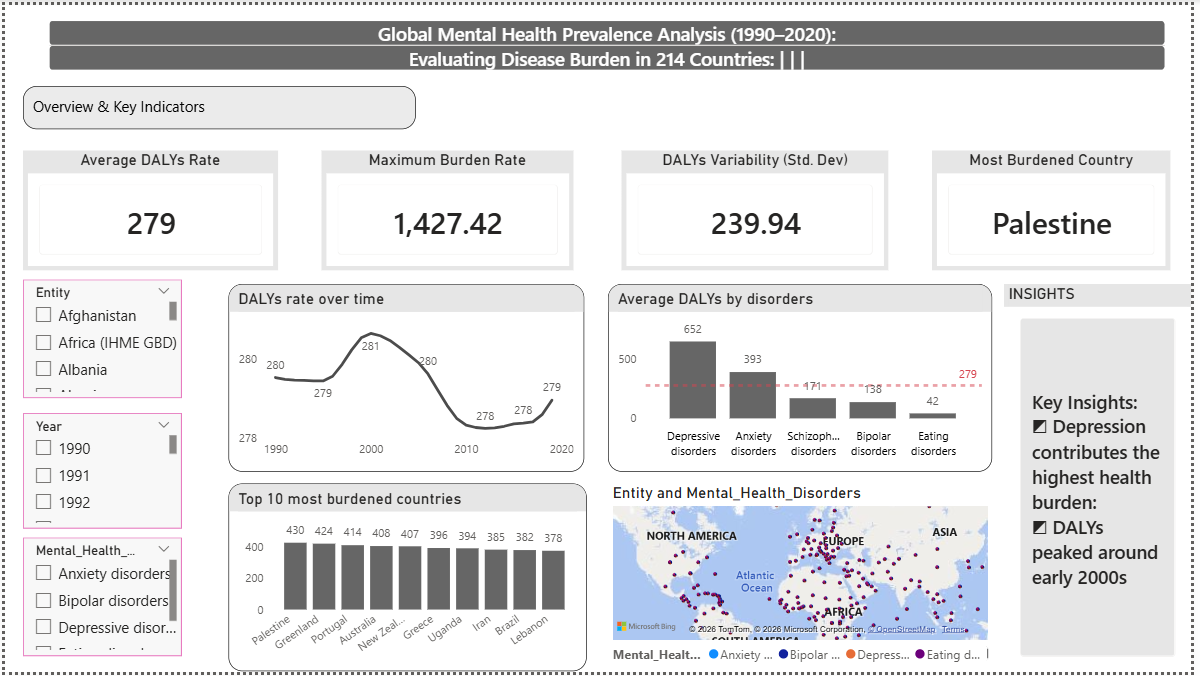

Layout of this report page (visuals, bound fields, positions):
{"tool":"powerbi","page":{"name":"DALYs Measures","canvas":[1280,720],"ordinal":1},"visuals":[{"type":"cardVisual","title":"Most Burdened Country","fields":{"Data":["Measures Table.Top Country DALYs"]},"box":[1000.7,157.1,257.5,129.5],"z":0},{"type":"cardVisual","title":"Average DALYs Rate","fields":{"Data":["Measures Table.m_Average DALYS rate"]},"box":[19.4,157.1,275.3,129.5],"z":1000},{"type":"lineChart","title":"DALYs rate over time","fields":{"Y":["Measures Table.m_Average DALYS rate"],"Category":["DIM_YEAR.Year"]},"box":[241.3,301.2,383.8,202.4],"z":2000},{"type":"clusteredColumnChart","title":"Average DALYs by disorders","fields":{"Y":["Measures Table.m_Average DALYS rate"],"Category":["DIM_DISORDERS.Mental_Health_Disorders"]},"box":[650.9,301.2,414.5,202.4],"z":3000},{"type":"cardVisual","title":"Maximum Burden Rate","fields":{"Data":["Measures Table.m_Max_DALYs"]},"box":[341.7,157.1,272,129.5],"z":4000},{"type":"cardVisual","title":"DALYs Variability (Std. Dev)","fields":{"Data":["Measures Table.m_Standard Deviation DALY"]},"box":[665.5,157.1,288.2,129.5],"z":5000},{"type":"clusteredColumnChart","title":"Top 10 most burdened countries","fields":{"Y":["Measures Table.m_Average DALYS rate"],"Category":["DIM_COUNTRIES.Entity"]},"box":[241.3,516.5,387,202.4],"z":6000},{"type":"slicer","fields":{"Values":["DIM_COUNTRIES.Entity"]},"box":[19.4,296.3,171.6,127.9],"z":7000},{"type":"slicer","fields":{"Values":["DIM_YEAR.Year"]},"box":[19.4,440.4,171.6,124.7],"z":8000},{"type":"slicer","fields":{"Values":["DIM_DISORDERS.Mental_Health_Disorders"]},"box":[19.4,574.8,171.6,127.9],"z":9000},{"type":"cardVisual","fields":{"Data":["Measures Table.dt_Main Title","Measures Table.dt_sMain DALYS"]},"box":[30.8,0,1238.7,87.4],"z":10000},{"type":"textbox","box":[19.4,87.4,424.2,47],"z":11000},{"type":"cardVisual","title":"INSIGHTS","fields":{"Data":["Measures Table.m_Dalys Insight"]},"box":[1078.4,301.2,202.4,419.4],"z":12000},{"type":"map","fields":{"Category":["DIM_COUNTRIES.Entity"],"Series":["DIM_DISORDERS.Mental_Health_Disorders"]},"box":[651,517,415,203],"z":12001}]}

Visuals, with their boxes in screenshot pixels (x1, y1, x2, y2), scaled from the page's 1280x720 canvas onto the 1200x676 screenshot:
"Most Burdened Country" cardVisual: {"left": 938, "top": 147, "right": 1180, "bottom": 269}
"Average DALYs Rate" cardVisual: {"left": 18, "top": 147, "right": 276, "bottom": 269}
"DALYs rate over time" lineChart: {"left": 226, "top": 283, "right": 586, "bottom": 473}
"Average DALYs by disorders" clusteredColumnChart: {"left": 610, "top": 283, "right": 999, "bottom": 473}
"Maximum Burden Rate" cardVisual: {"left": 320, "top": 147, "right": 575, "bottom": 269}
"DALYs Variability (Std. Dev)" cardVisual: {"left": 624, "top": 147, "right": 894, "bottom": 269}
"Top 10 most burdened countries" clusteredColumnChart: {"left": 226, "top": 485, "right": 589, "bottom": 675}
slicer - DIM_COUNTRIES.Entity: {"left": 18, "top": 278, "right": 179, "bottom": 398}
slicer - DIM_YEAR.Year: {"left": 18, "top": 413, "right": 179, "bottom": 531}
slicer - DIM_DISORDERS.Mental_Health_Disorders: {"left": 18, "top": 540, "right": 179, "bottom": 660}
cardVisual - Measures Table.dt_Main Title x Measures Table.dt_sMain DALYS: {"left": 29, "top": 0, "right": 1190, "bottom": 82}
textbox: {"left": 18, "top": 82, "right": 416, "bottom": 126}
"INSIGHTS" cardVisual: {"left": 1011, "top": 283, "right": 1199, "bottom": 675}
map - DIM_COUNTRIES.Entity x DIM_DISORDERS.Mental_Health_Disorders: {"left": 610, "top": 485, "right": 999, "bottom": 675}
